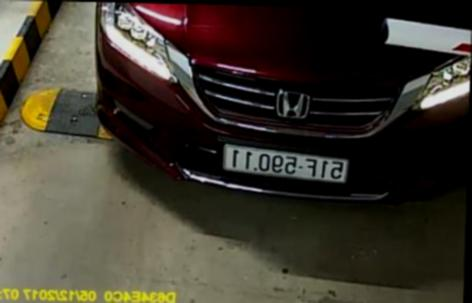License_Plate: (216, 143, 355, 192)
